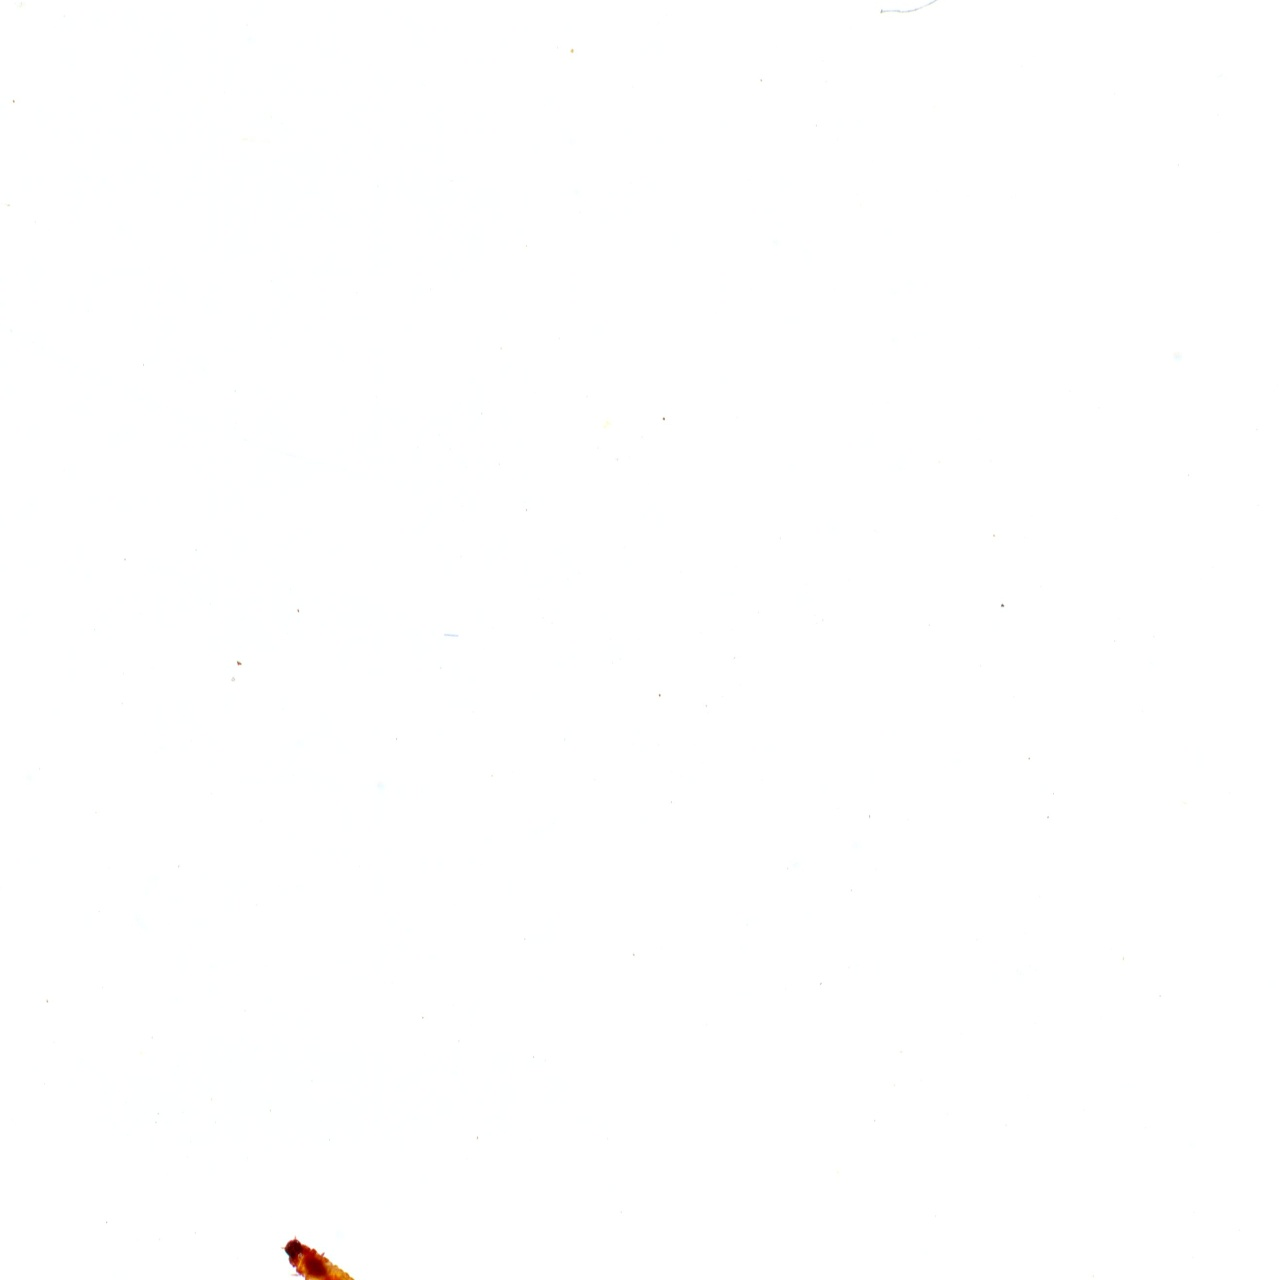arthropod: (269, 1218, 386, 1280)
